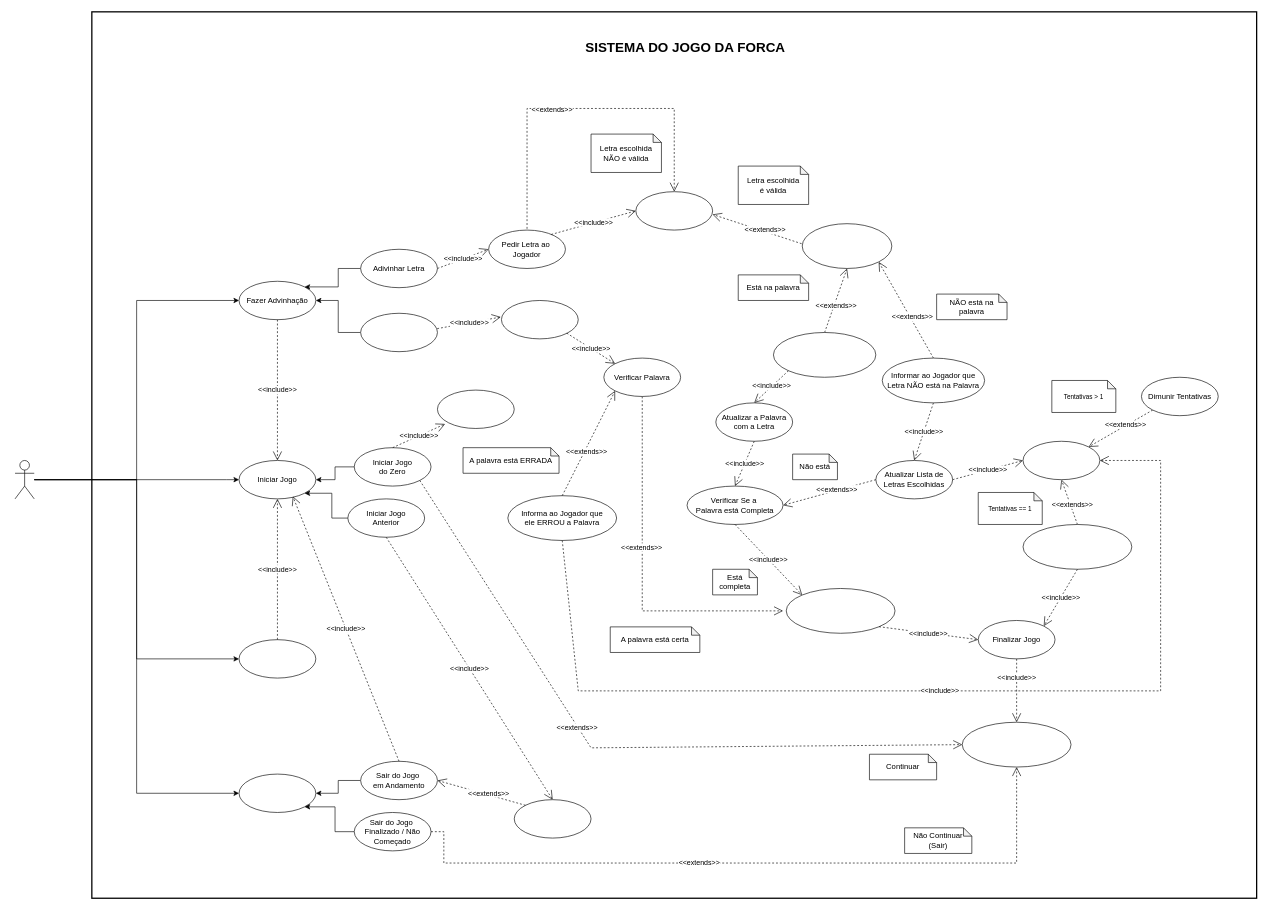
This 1268x909 diagram has some shape labels left out. The box of each missing label's shape, as (x1, y1, x2, y2) in pixels:
Adivinhar Palavra: (360, 313, 437, 352)
Escolher Palavra Aleatoriamente: (437, 389, 514, 428)
Exibir Estado do Jogo: (238, 639, 316, 678)
Informa ao Jogador que as tentativas acabaram: (1022, 524, 1132, 569)
Informa ao Jogador que ele acertou a Palavra: (786, 588, 895, 633)
Informar ao Jogador que Letra está na Palavra: (773, 332, 876, 377)
Jogador: (14, 460, 34, 499)
Pedir ao Jogador se Deseja Continuar: (962, 722, 1071, 767)
Pedir Palavra ao Jogador: (501, 300, 578, 339)
Sair do Jogo: (238, 773, 316, 812)
Salvar Estado do Jogo: (514, 799, 591, 838)
Validar Letra Escolhida: (635, 191, 713, 230)
Verificar se Está na Palavra Escolhida: (802, 223, 892, 268)
Verificar Tentativas Restantes: (1022, 441, 1100, 480)
